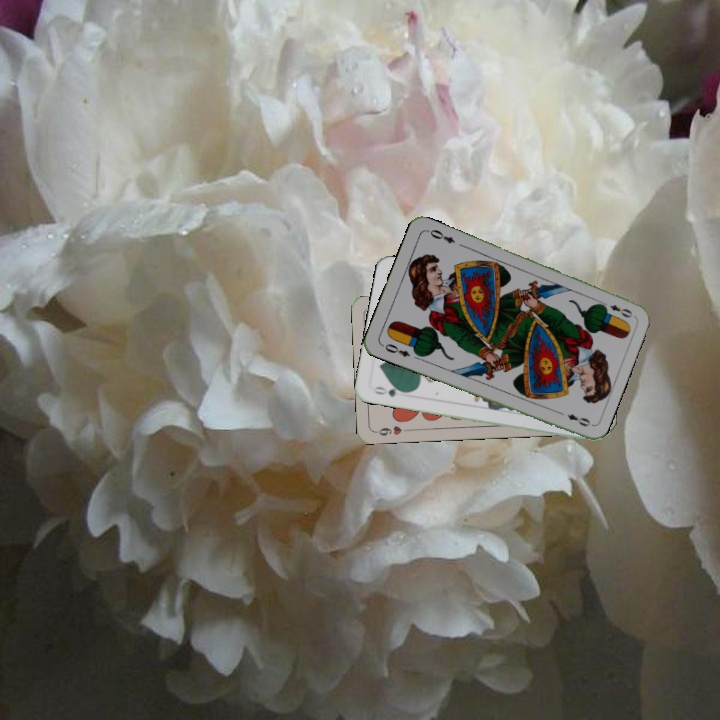EO: (597, 298, 635, 320), (378, 340, 413, 360)
GO: (370, 382, 410, 400)
H9: (371, 422, 412, 438)
